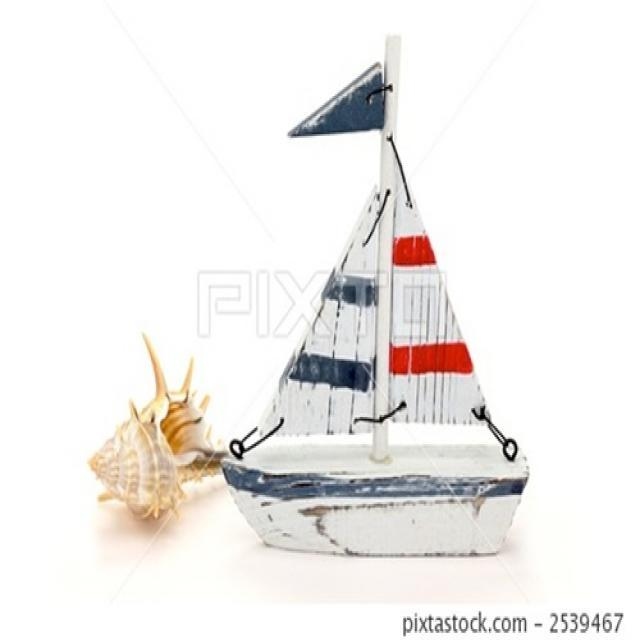Ship: (225, 28, 533, 559)
